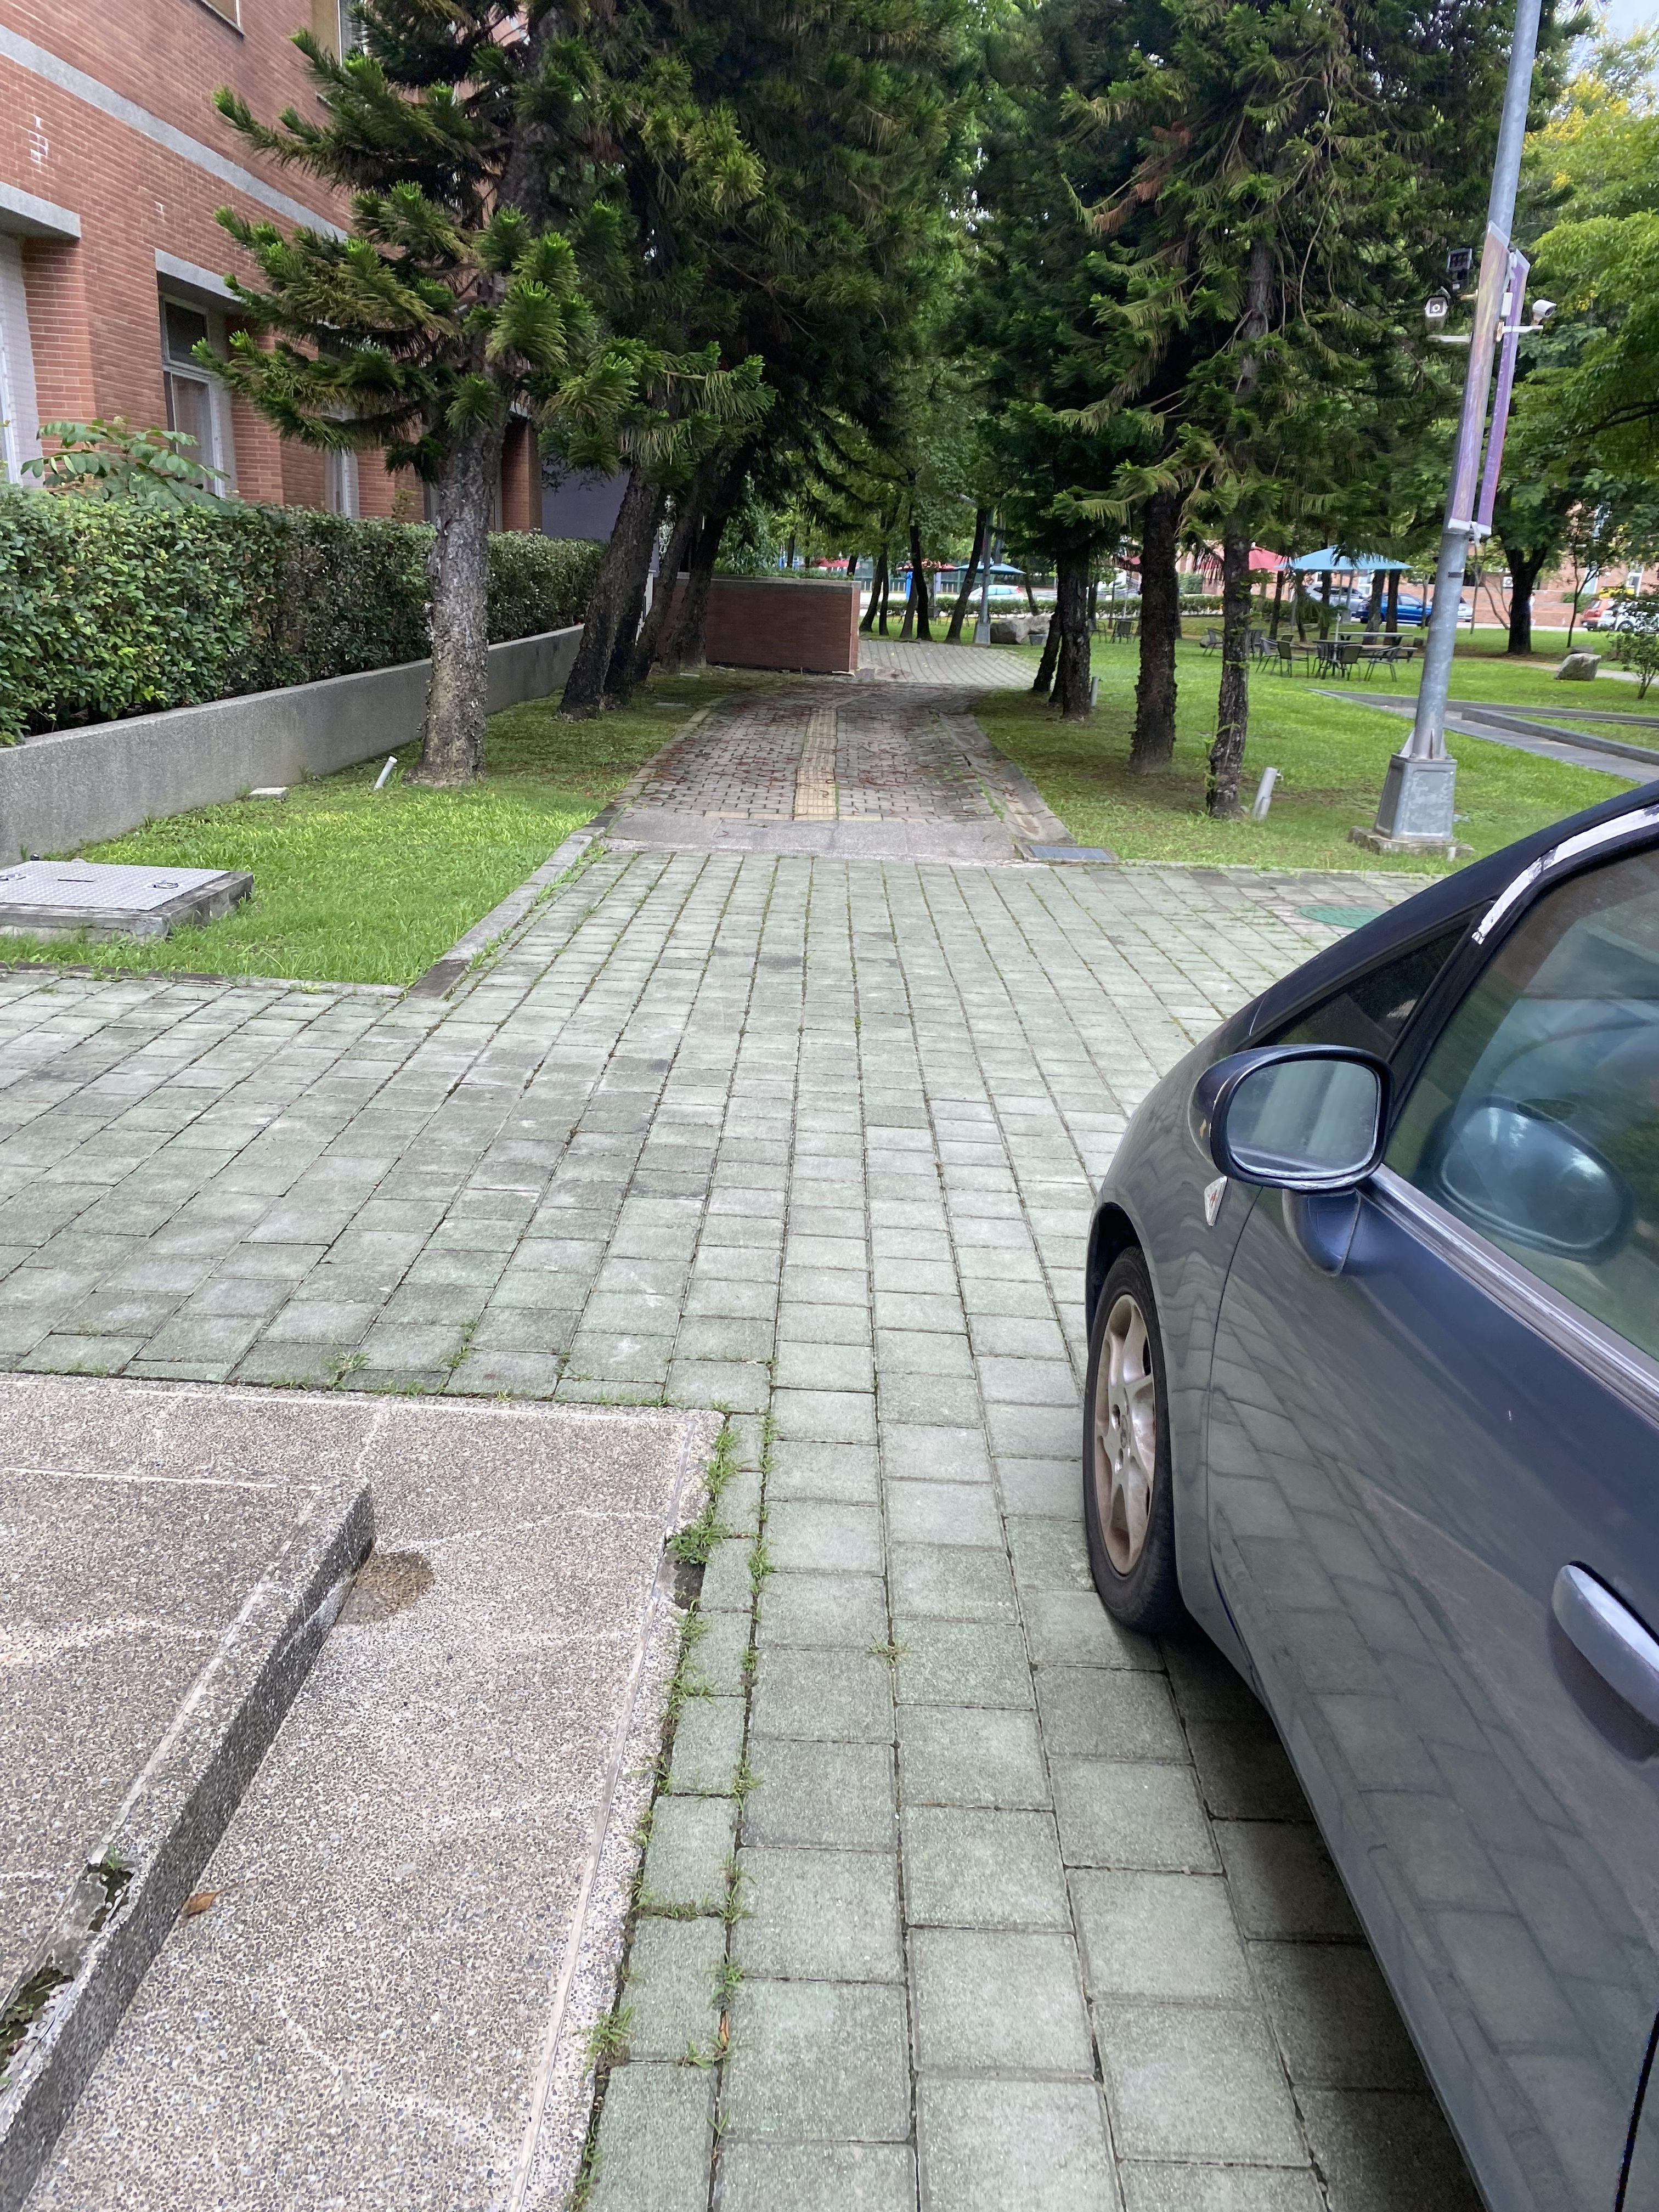sidewalk: (532, 596, 1410, 2212)
